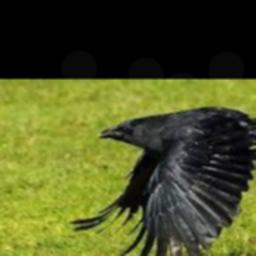Crow: (69, 106, 256, 256)
